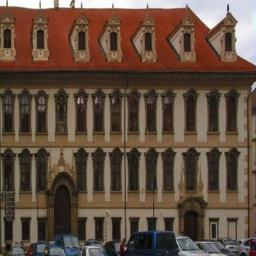building: (0, 0, 249, 237)
